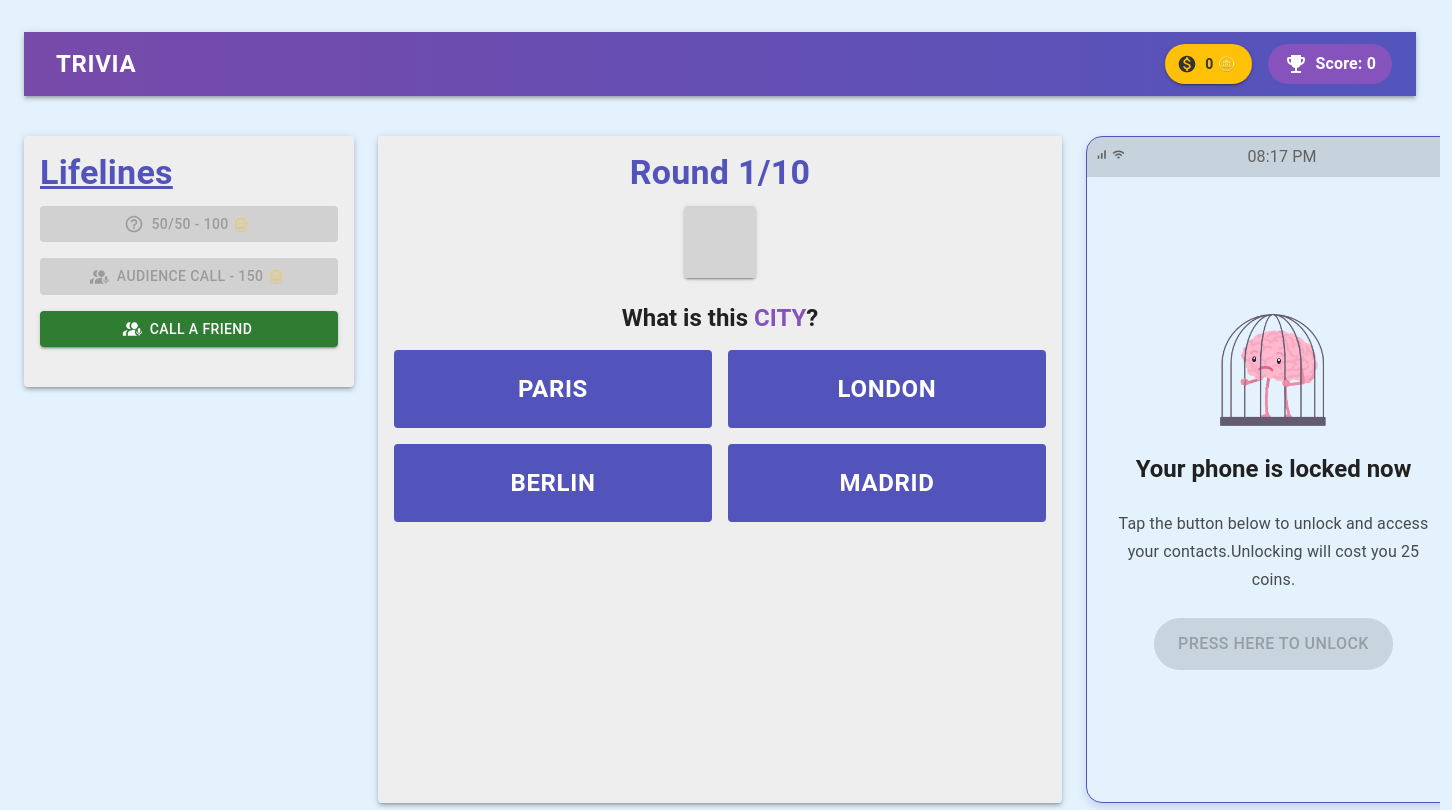
Test: Game component › should allow selecting an answer and update the score if correct
Expected: the heading "What is this CITY?" is shown, x1=622 y1=304 x2=818 y2=332
What coordinates should you click on to do the following:
click the button "Paris"
I would click on:
 (553, 389)
Its box is x1=394 y1=350 x2=712 y2=428.
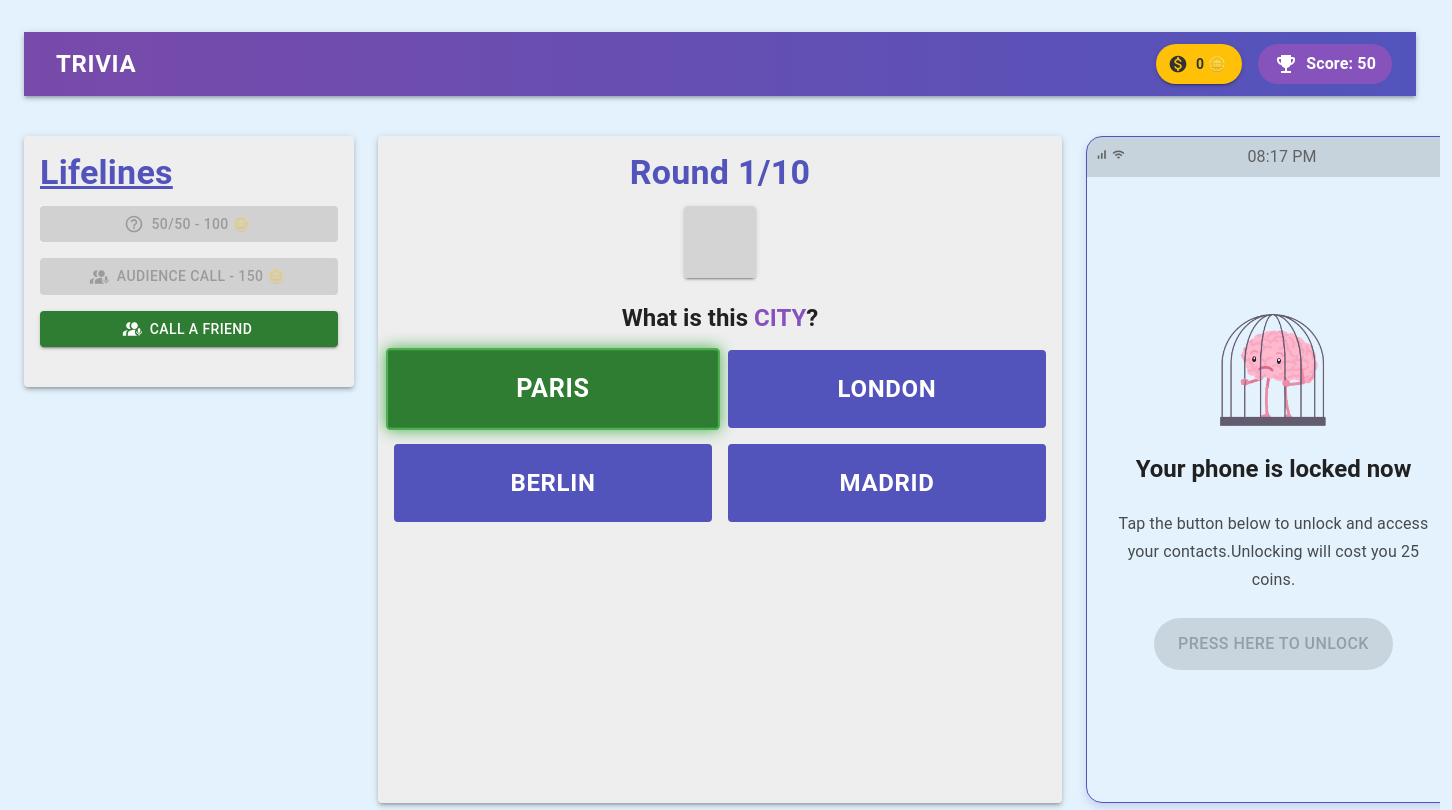
Now the text "Score: 50" is shown, box x1=1258 y1=44 x2=1392 y2=84
